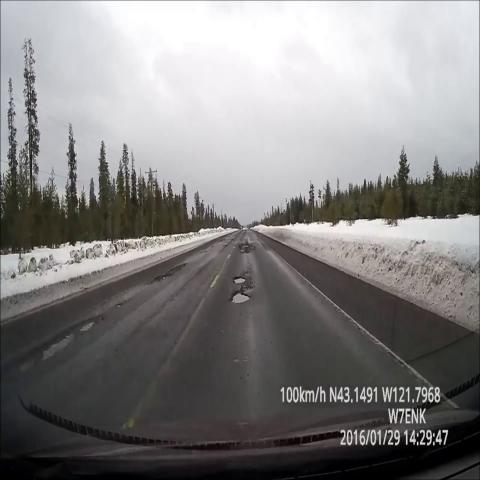pothole: (8, 310, 109, 388), (144, 255, 200, 293), (226, 288, 258, 313), (228, 267, 260, 288), (230, 239, 262, 257)
